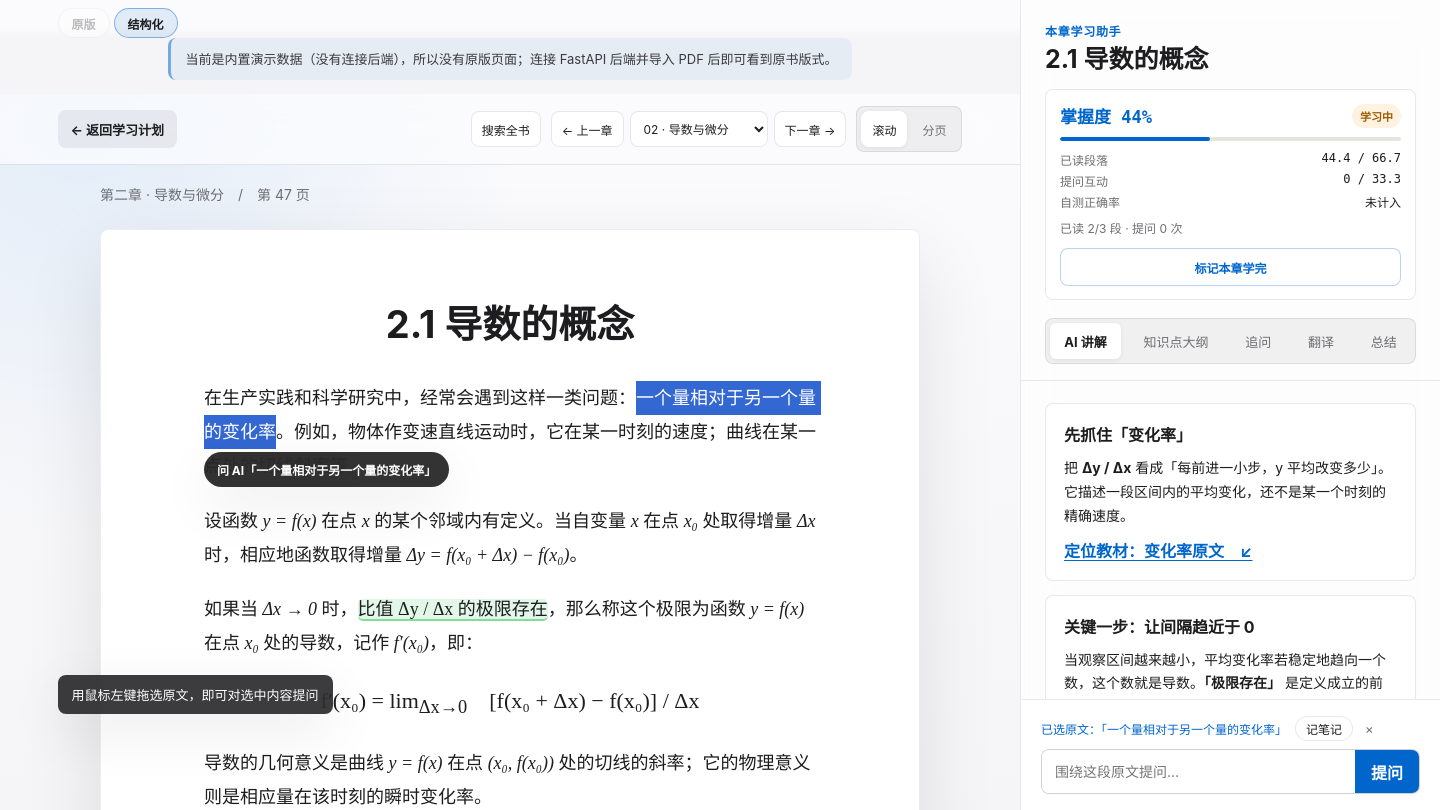
it: 笔记 › 选中原文后可以记一条笔记，并带上那段原文与锚点
Check: the element with test id "paper" is shown, box [100,229,920,809]
Click the button with test id "note-start" at (1324, 728), box [1295,716,1353,741]
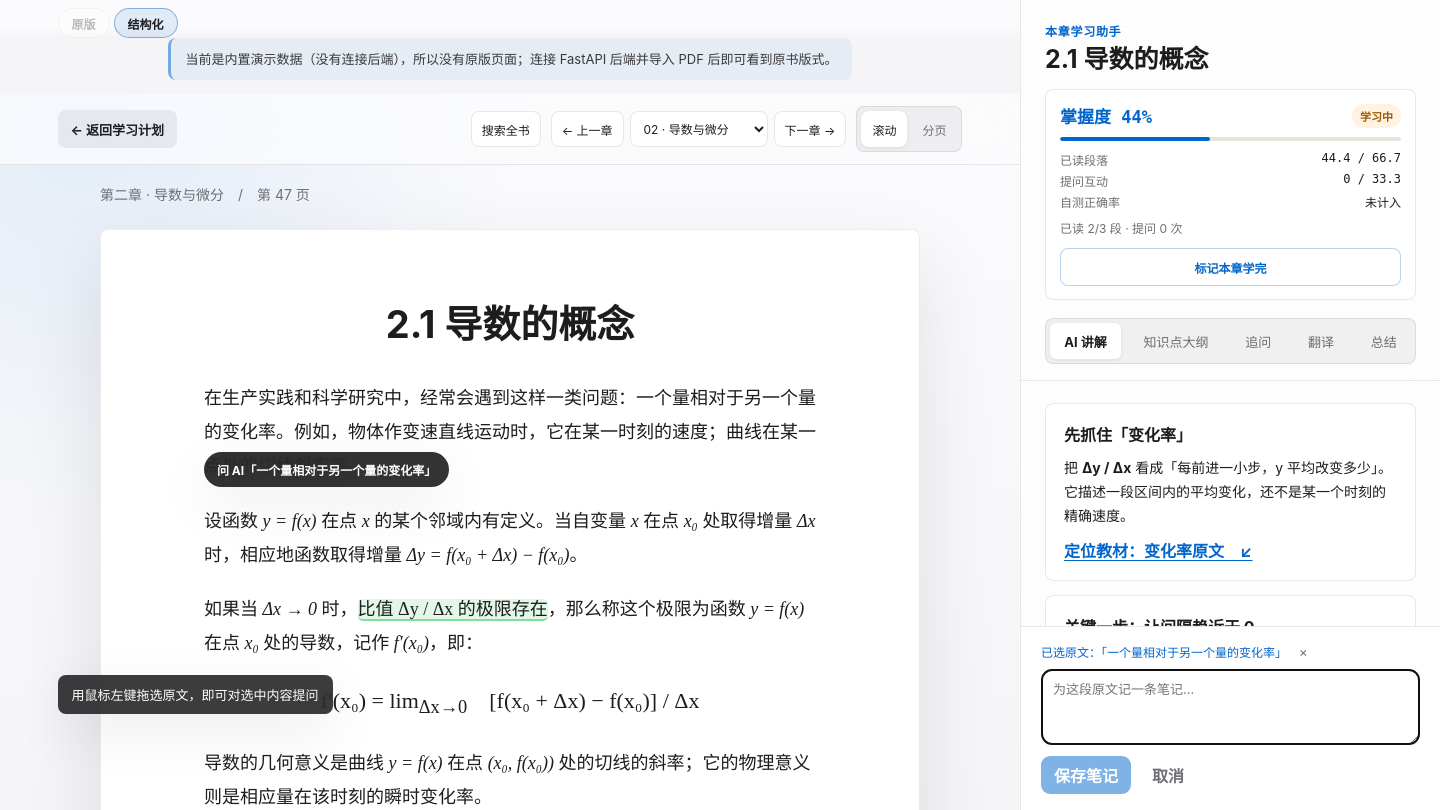
Type "这里和上一章的映射一起看" into the text box named "笔记内容" at (1230, 707), box [1041,669,1420,745]
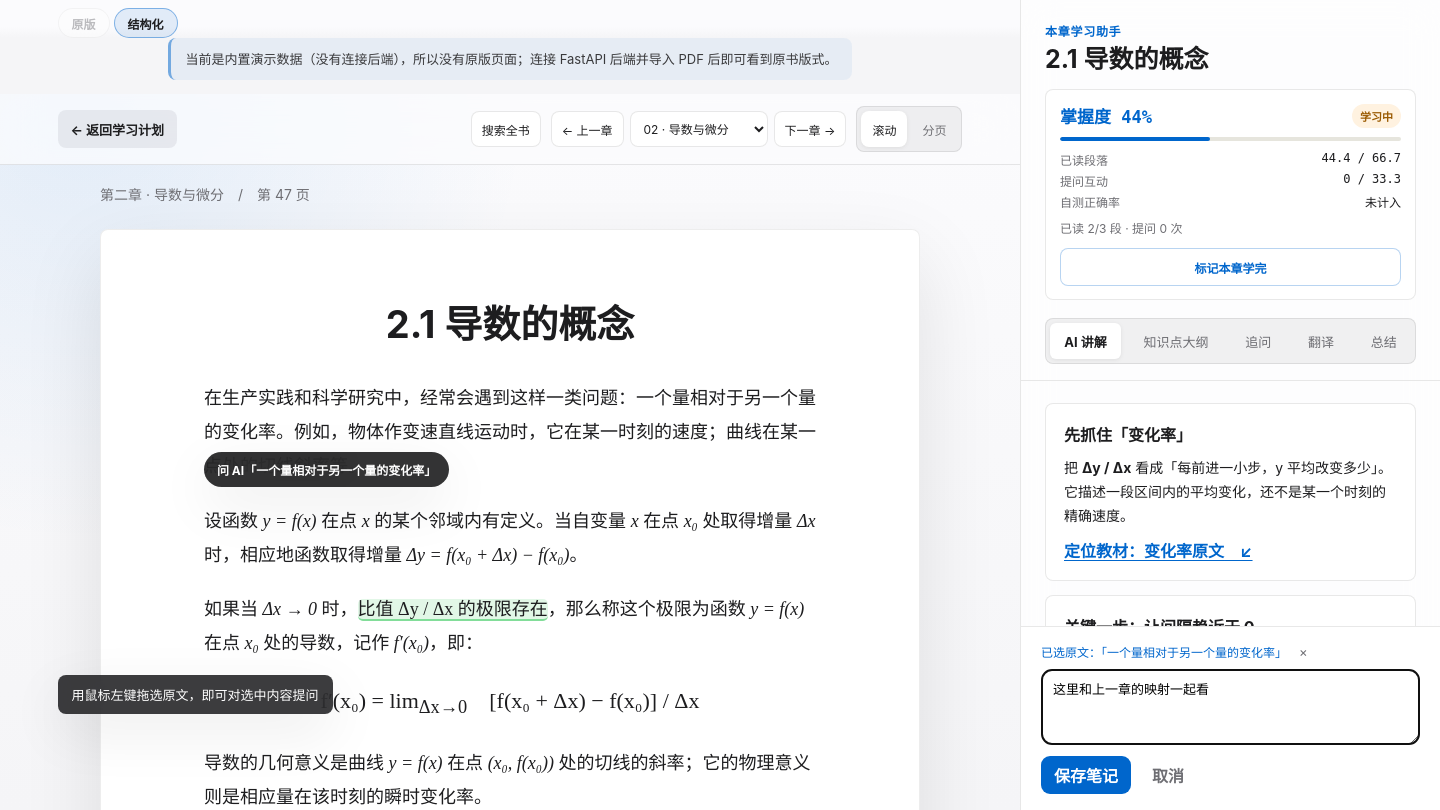
Click the button "保存笔记" at (1086, 775), box [1041,756,1131,794]
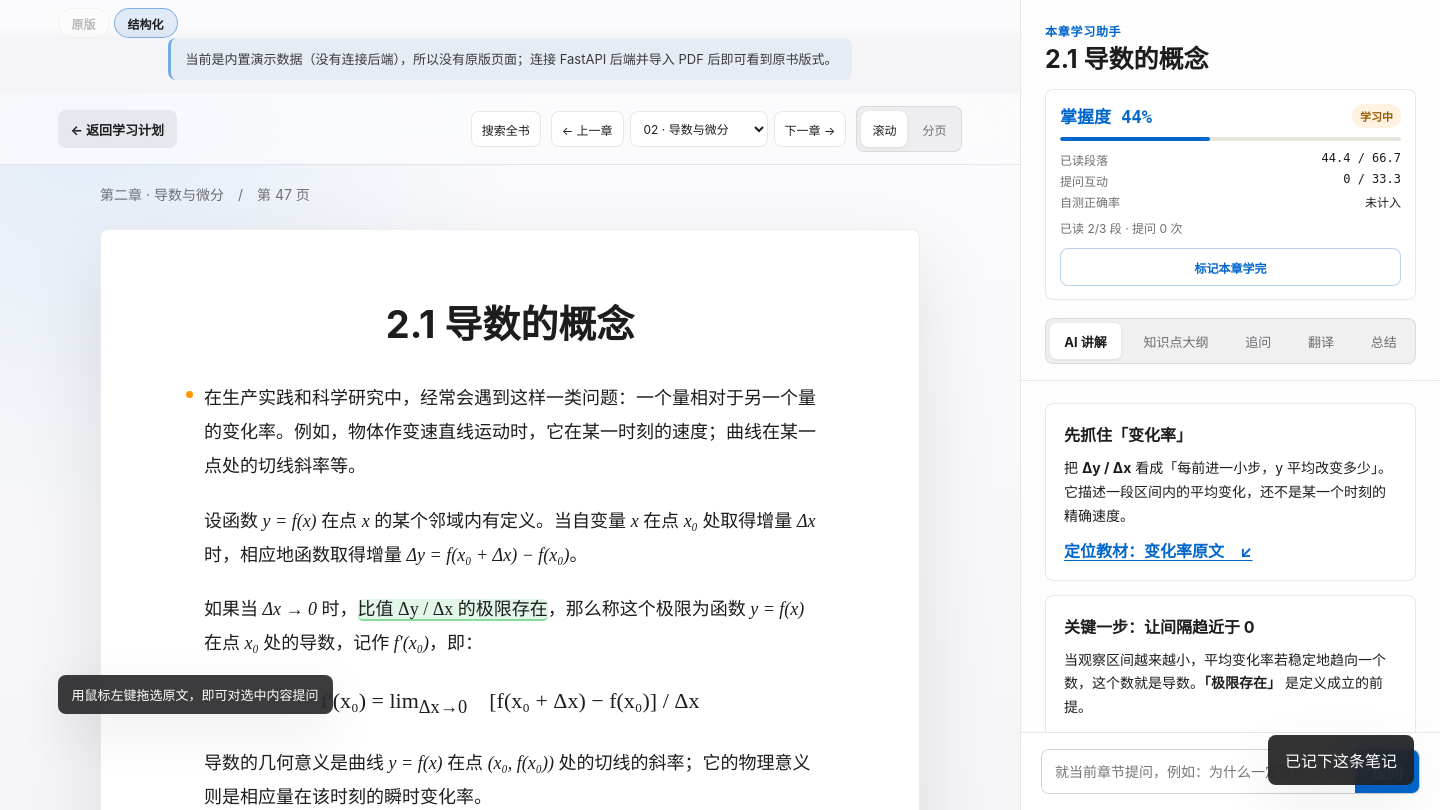
Check: the text "已记下这条笔记" is shown, box [1268,735,1414,785]
